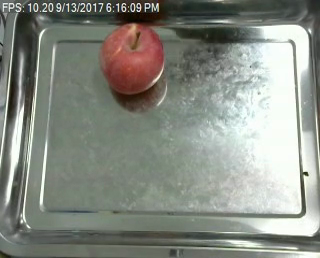Apple: (96, 18, 166, 95)
